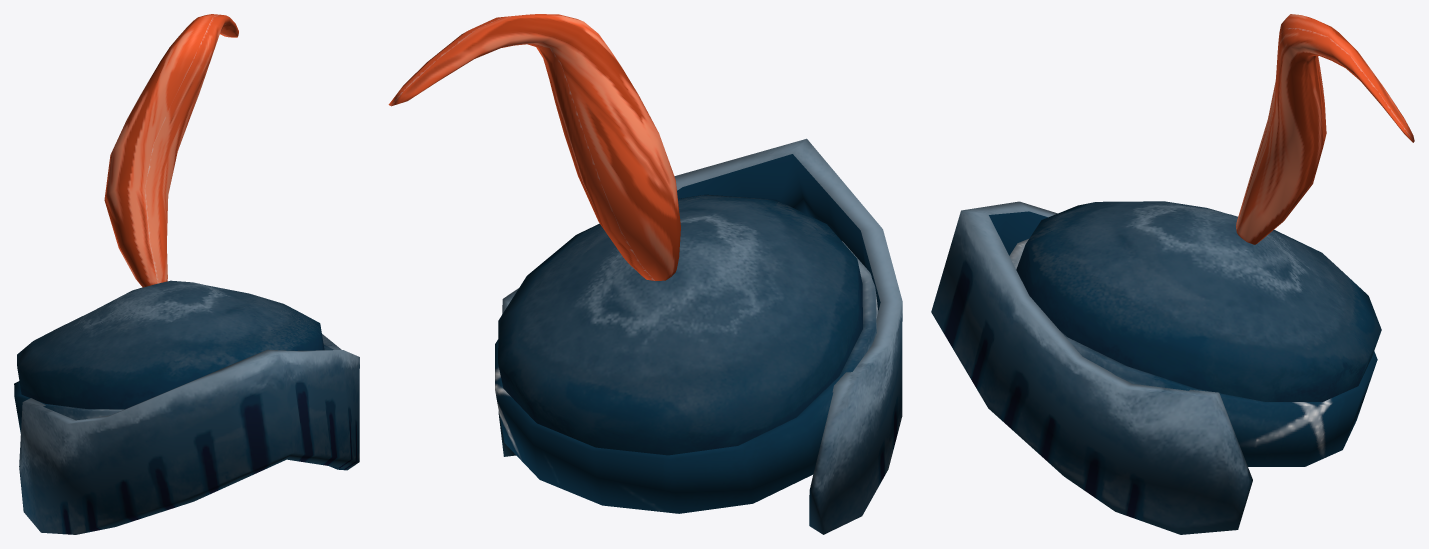
The model's file is Knight-Hat.glb.
The picture shows the model from 3 angles, left to right: view 1: azimuth 30°, elevation 25°; view 2: azimuth 150°, elevation 25°; view 3: azimuth 270°, elevation 25°; orthographic projection. The views are drawn at different scales.
Parts seen in each view (by area): view 1: Mesh-Warior; view 2: Mesh-Warior; view 3: Mesh-Warior.
Boxes of the visible parts, left/top/right/bottom form: Mesh-Warior: left=14, top=14, right=359, bottom=534; Mesh-Warior: left=388, top=14, right=902, bottom=534; Mesh-Warior: left=931, top=14, right=1414, bottom=534.
Size of the model in its own units: 0.5174 by 0.6737 by 0.6232.
Materials: 1 (1 with a texture image).
